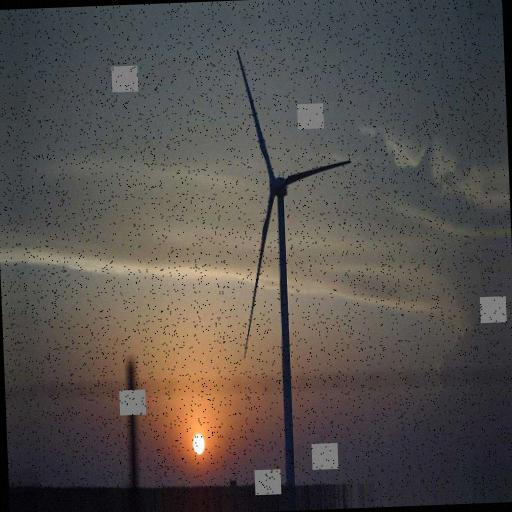wind turbine: (232, 48, 356, 486)
